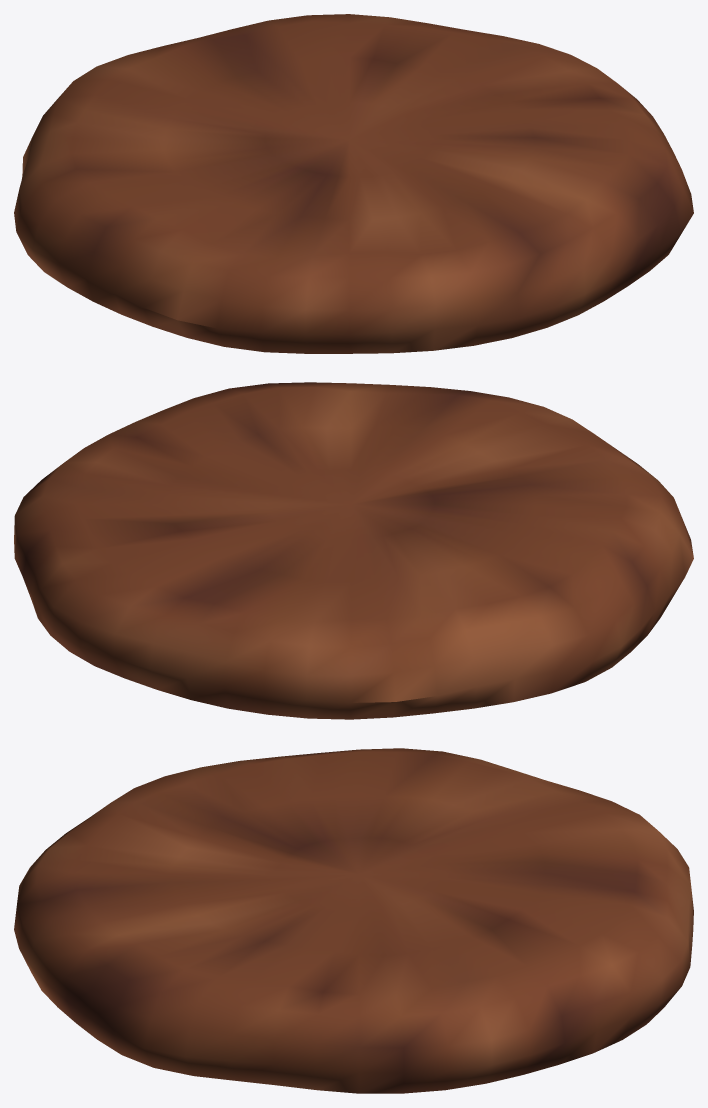
Rendered from patty.glb.
3 views of the same model, one above another, from view 1: azimuth 30°, elevation 25°; view 2: azimuth 150°, elevation 25°; view 3: azimuth 270°, elevation 25° (orthographic). The views are drawn at different scales.
Parts seen in each view (by area): view 1: body; view 2: body; view 3: body.
Boxes of the visible parts, box(x1,y1,x2,y2) form: body: box(14, 14, 693, 353); body: box(14, 382, 693, 719); body: box(14, 748, 693, 1093).
Size of the model in its own units: 1 by 0.1499 by 0.993.
